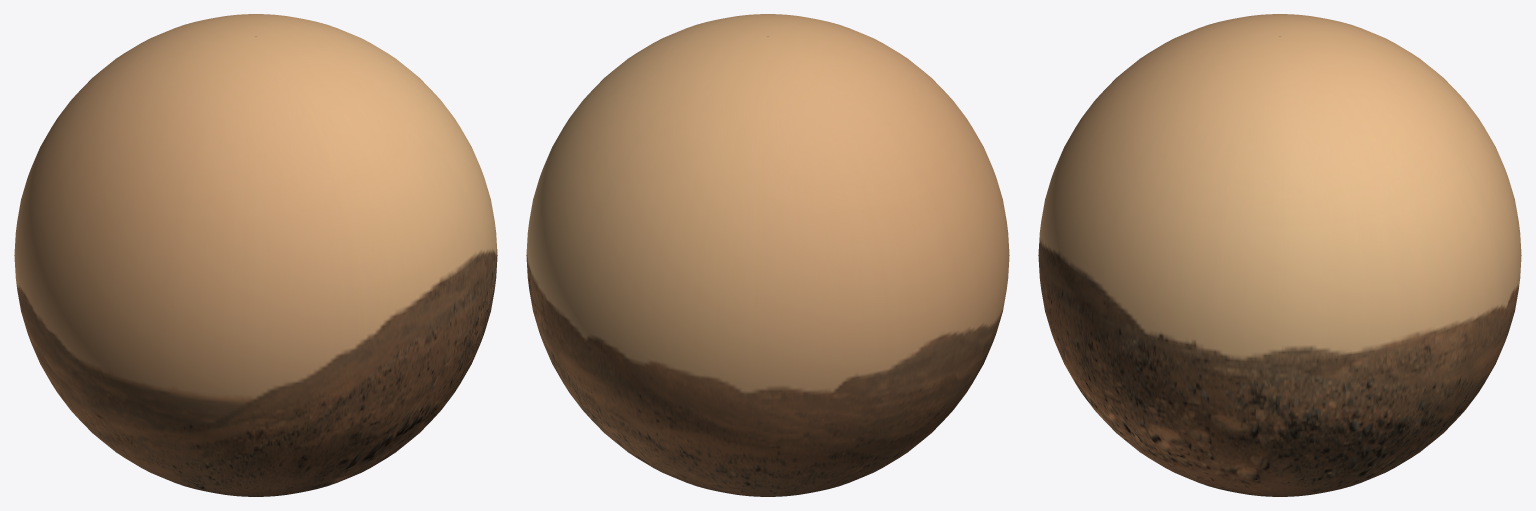
The model's file is 360PhotoSphere.fbx.
3 views of the same model, side by side, from view 1: azimuth 30°, elevation 25°; view 2: azimuth 150°, elevation 25°; view 3: azimuth 270°, elevation 25° (orthographic).
Parts seen in each view (by area): view 1: pSphere1; view 2: pSphere1; view 3: pSphere1.
Part boxes in pixels (x1,y1,x2,y2): pSphere1: [14, 14, 497, 496]; pSphere1: [526, 14, 1009, 496]; pSphere1: [1038, 14, 1521, 496].
Size of the model in its own units: 8.71 by 8.71 by 8.71.
Materials: 1 (1 with a texture image).
